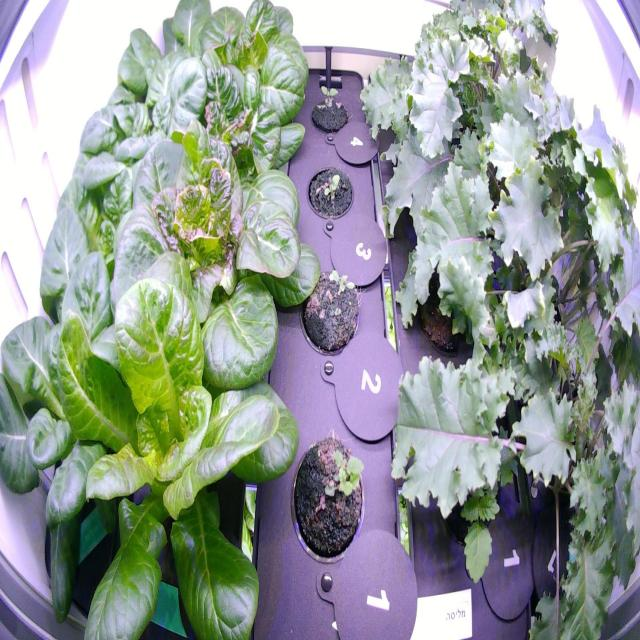Ready: (49, 225, 304, 636), (88, 109, 324, 401), (160, 47, 310, 197), (186, 0, 314, 135)
young: (0, 206, 175, 636), (30, 133, 176, 339), (64, 42, 192, 240), (112, 0, 231, 122)
